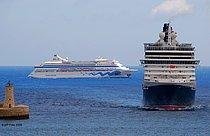Ship: (142, 28, 205, 111), (33, 59, 138, 80)
